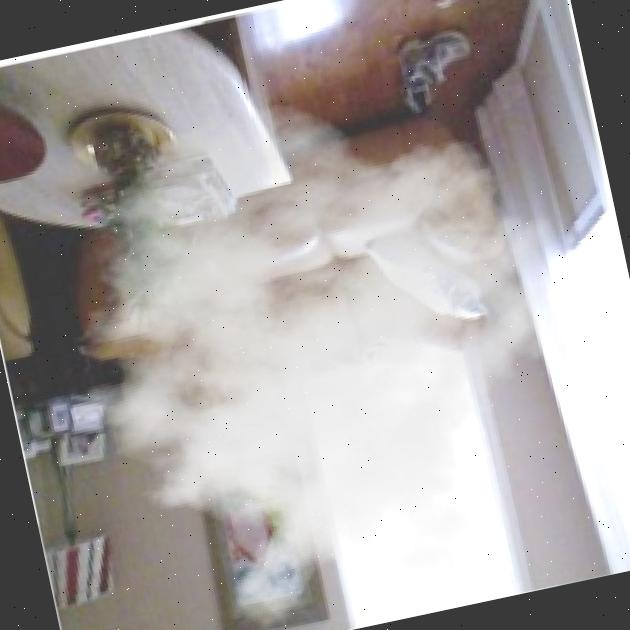smoke: (0, 48, 630, 630)
